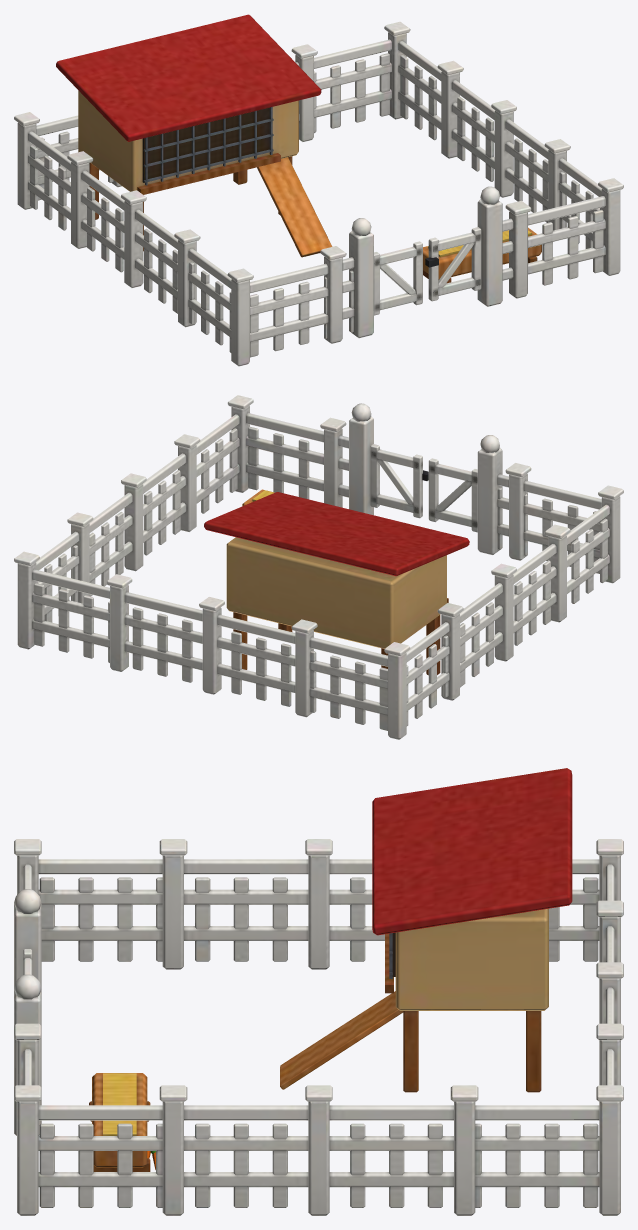
File: rabbit_hutch.glb
3 views of the same model, one above another, from view 1: azimuth 30°, elevation 25°; view 2: azimuth 150°, elevation 25°; view 3: azimuth 270°, elevation 25° (orthographic). The views are drawn at different scales.
Parts seen in each view (by area): view 1: rabbit_hutch, gate1, gate0; view 2: rabbit_hutch, gate1, gate0; view 3: rabbit_hutch.
Boxes of the visible parts, x1,y1,x2,y2 form: rabbit_hutch: (14, 14, 623, 366); gate1: (425, 227, 481, 301); gate0: (374, 241, 422, 315); rabbit_hutch: (14, 395, 623, 739); gate1: (370, 444, 428, 518); gate0: (428, 458, 477, 532); rabbit_hutch: (14, 768, 623, 1215).
Bounding box in the file's own units: 1.99 × 0.7573 × 1.99.
Materials: 1 (1 with a texture image).
